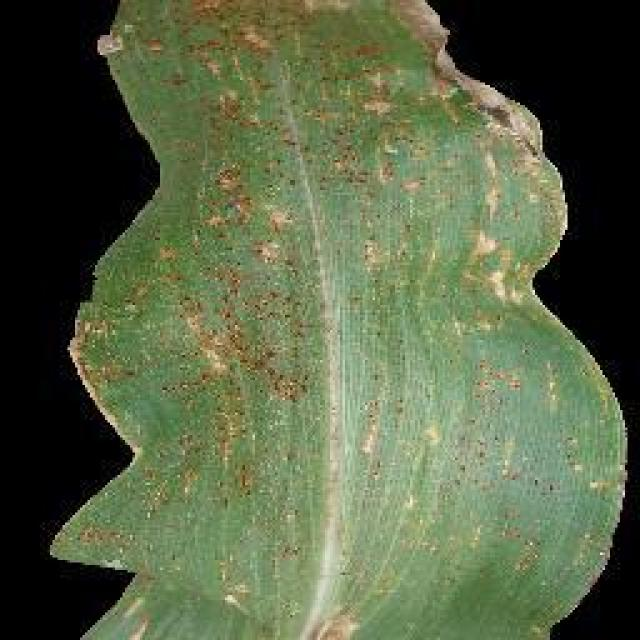Corn Common Rust: (105, 46, 552, 562)
